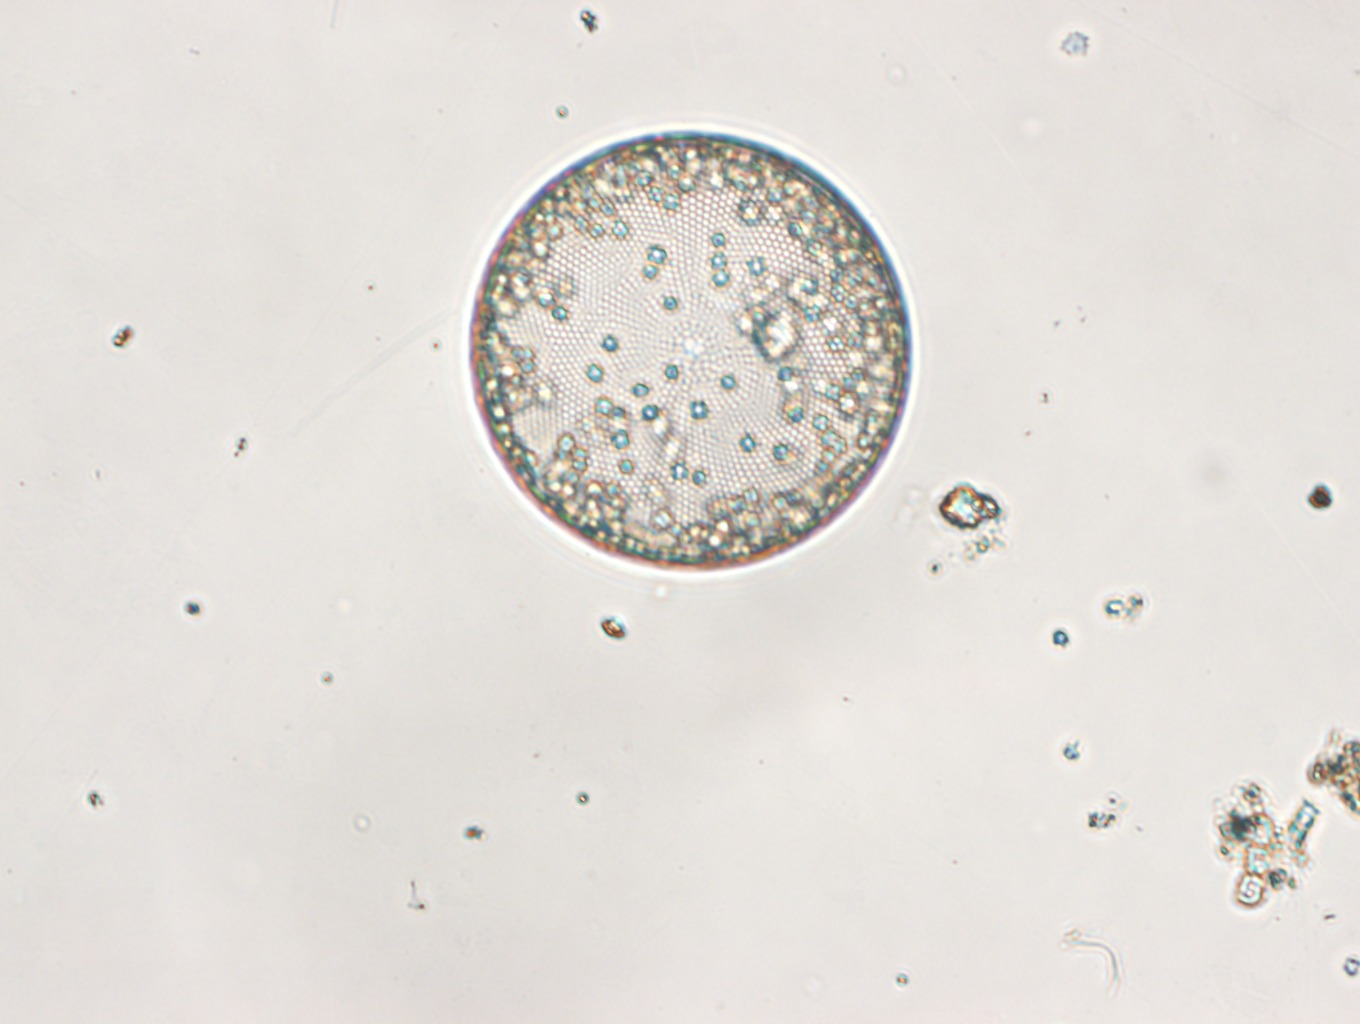coscinodiscus: (469, 132, 928, 582)
